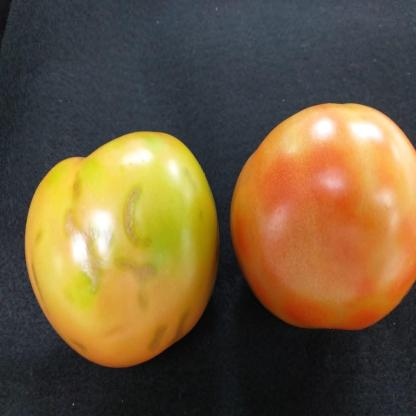T_F_H: (231, 104, 416, 331)
T_F_R: (25, 132, 219, 368)
